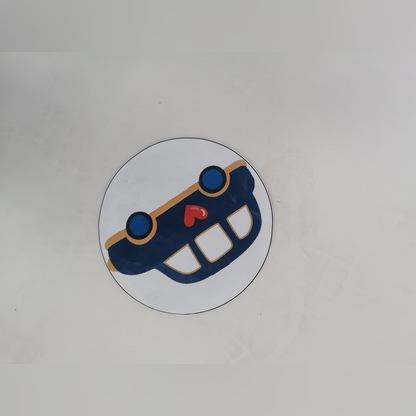car: (90, 158, 282, 284)
